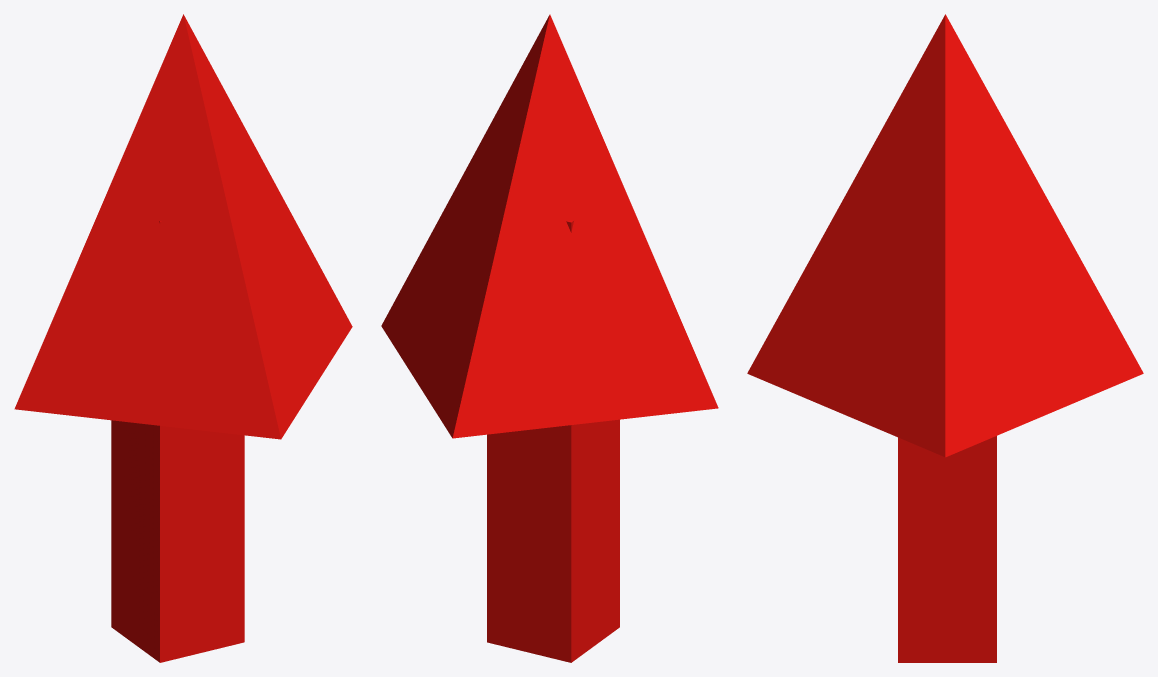
The model's file is pine-dry-low.glb.
3 views of the same model, side by side, from view 1: azimuth 30°, elevation 25°; view 2: azimuth 150°, elevation 25°; view 3: azimuth 270°, elevation 25° (orthographic).
Visible parts, largest first — view 1: 立方体; view 2: 立方体; view 3: 立方体.
Part boxes in pixels (left/top/right/bottom): 立方体: left=14, top=14, right=352, bottom=662; 立方体: left=381, top=14, right=718, bottom=662; 立方体: left=747, top=14, right=1143, bottom=662.
Size of the model in its own units: 2.5 by 4.38 by 2.5.
